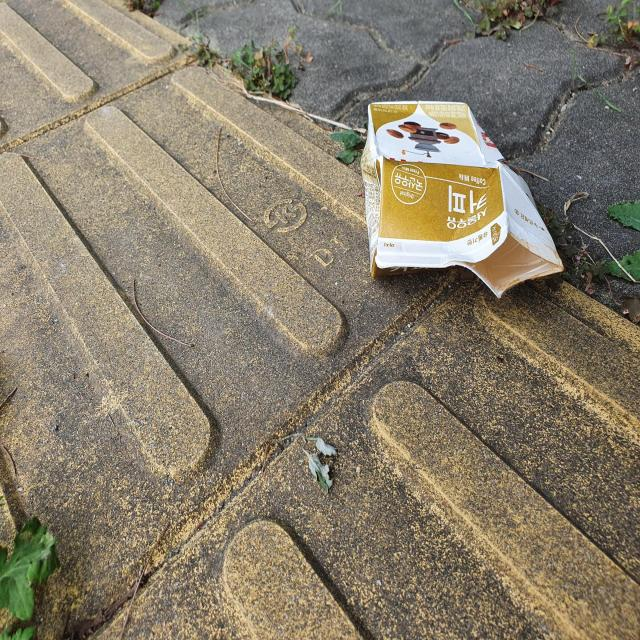paperpack: (362, 100, 565, 296)
